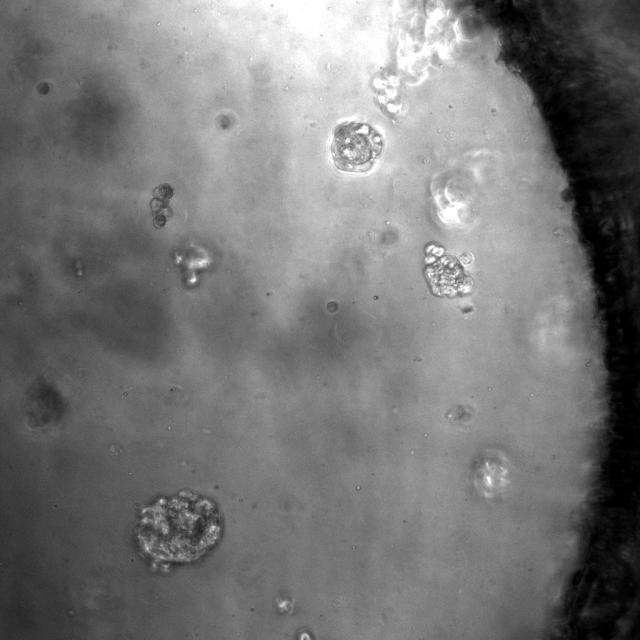organoid: (370, 0, 482, 119), (133, 489, 223, 570), (329, 120, 383, 173), (423, 242, 474, 298), (174, 245, 212, 288), (149, 182, 174, 228), (214, 113, 234, 130), (36, 81, 50, 95), (327, 301, 338, 312)
